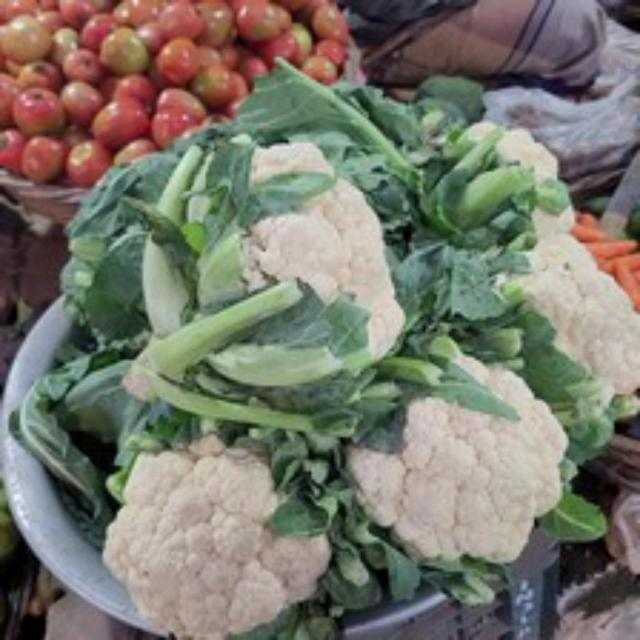cauliflower: (100, 434, 348, 637)
